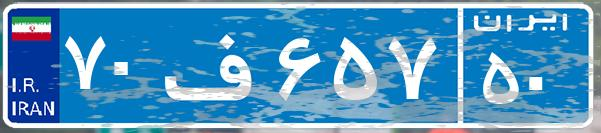0: (110, 28, 158, 105), (525, 38, 570, 115)
5: (330, 28, 385, 110), (475, 38, 525, 113)
6: (273, 28, 330, 110)
7: (385, 28, 445, 110), (57, 26, 110, 107)
ف: (158, 15, 273, 115)
